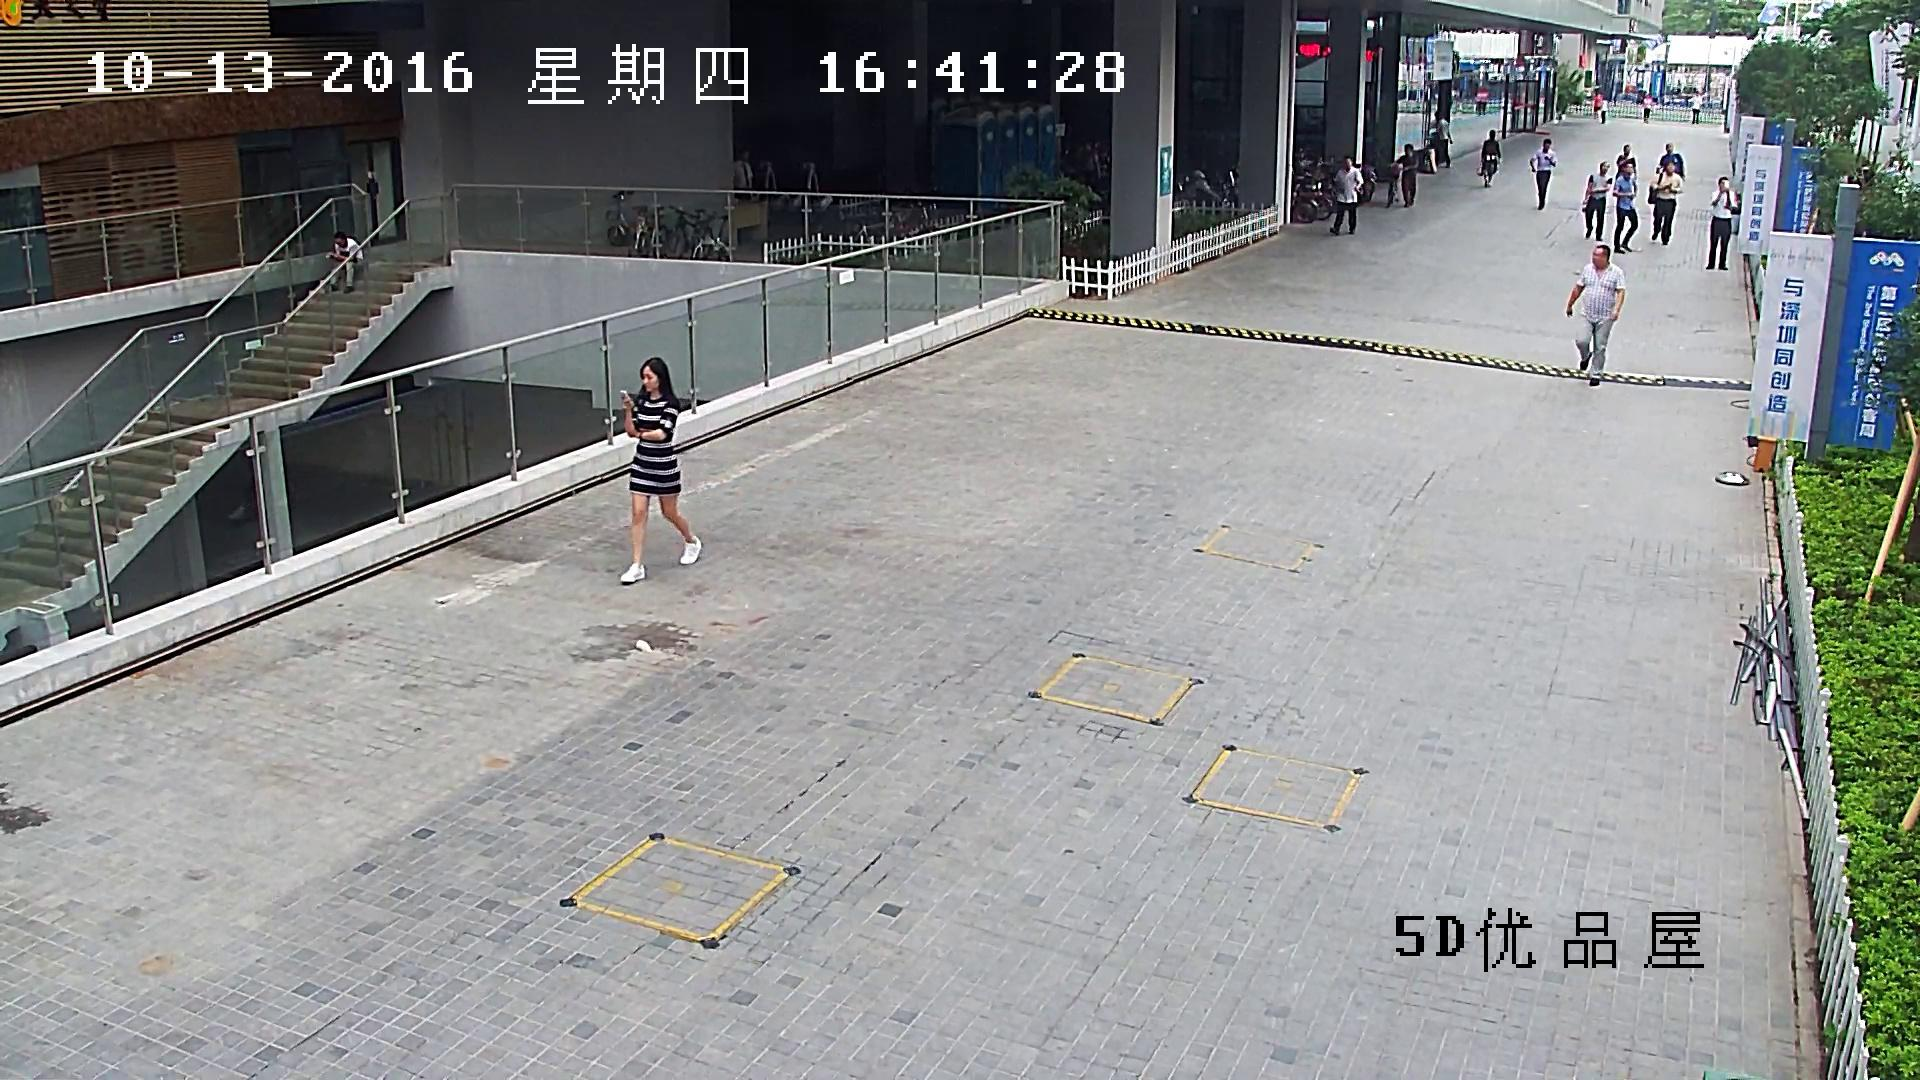person: (620, 356, 703, 584), (1566, 245, 1625, 385), (1705, 175, 1738, 271), (1649, 160, 1683, 245), (1328, 155, 1363, 236), (1580, 161, 1613, 240), (1613, 162, 1639, 253), (326, 232, 364, 293), (1386, 143, 1419, 208), (1530, 138, 1557, 210), (1390, 143, 1419, 208), (1476, 128, 1502, 187), (1432, 110, 1453, 168), (1655, 143, 1685, 179), (1617, 144, 1637, 181), (1474, 85, 1489, 117), (1691, 91, 1701, 124), (1592, 90, 1602, 118), (1643, 95, 1652, 123), (1601, 96, 1607, 124)
